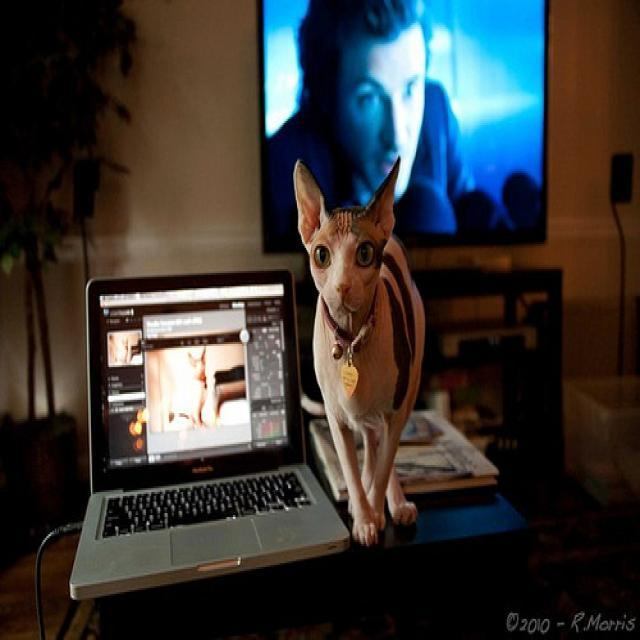Sphynx: (285, 154, 400, 340)
